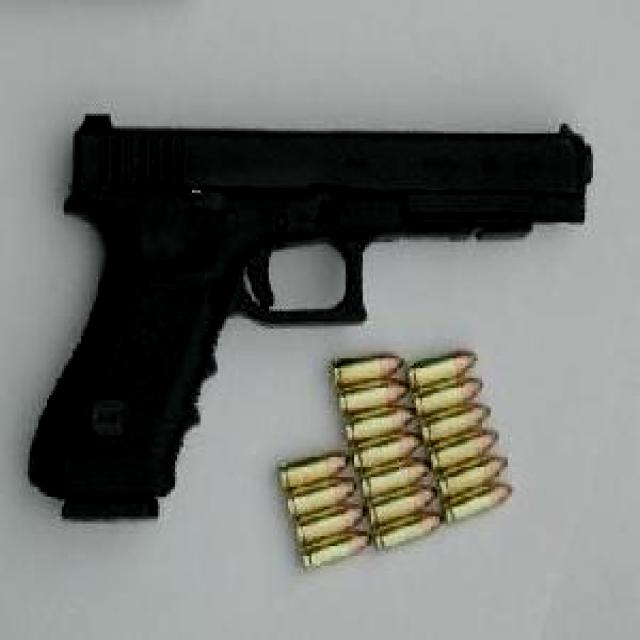pistol: (26, 119, 586, 526)
